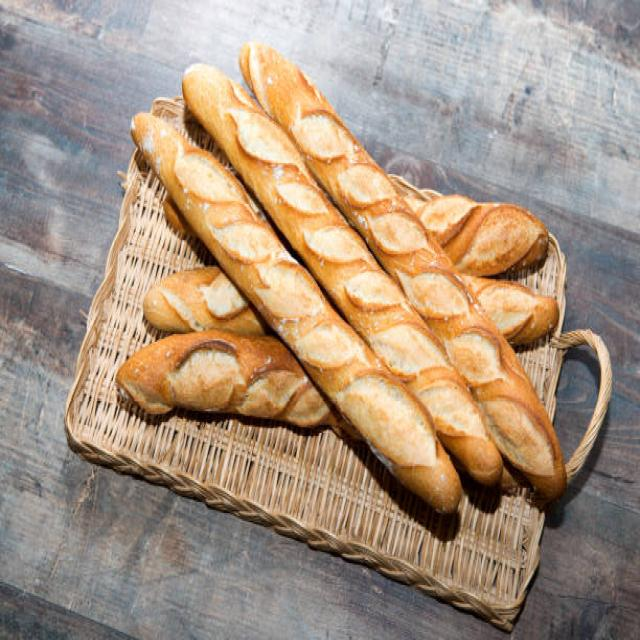Baguette: (239, 42, 564, 497), (182, 64, 502, 485), (132, 113, 461, 511), (118, 333, 338, 427), (409, 193, 548, 276), (144, 267, 265, 333), (459, 273, 557, 345)
